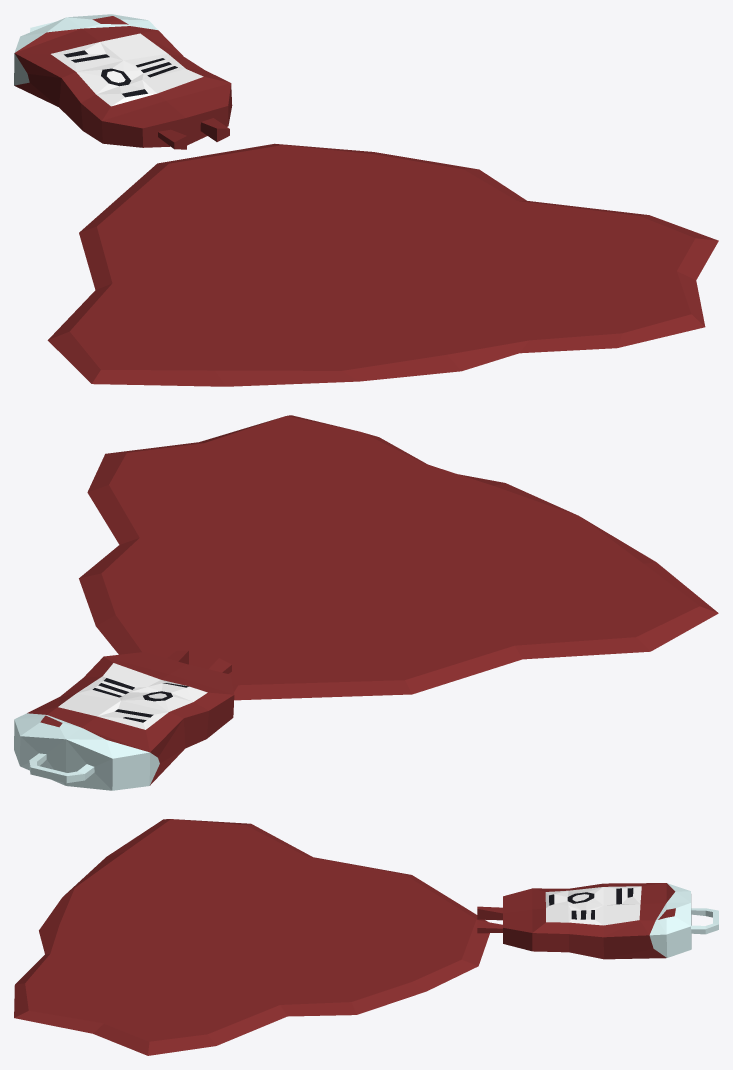
The model's file is apocalypse-blood-bag-spilled.glb.
3 renders of one model, top to bottom at view 1: azimuth 30°, elevation 25°; view 2: azimuth 150°, elevation 25°; view 3: azimuth 270°, elevation 25°, orthographic. The views are drawn at different scales.
Parts seen in each view (by area): view 1: blood-bag-spilled; view 2: blood-bag-spilled; view 3: blood-bag-spilled.
Part boxes in pixels (x1,y1,x2,y2): blood-bag-spilled: (14, 14, 718, 386); blood-bag-spilled: (14, 415, 718, 790); blood-bag-spilled: (14, 819, 718, 1055).
Bounding box in the file's own units: 0.5988 × 0.0441 × 0.7537.
